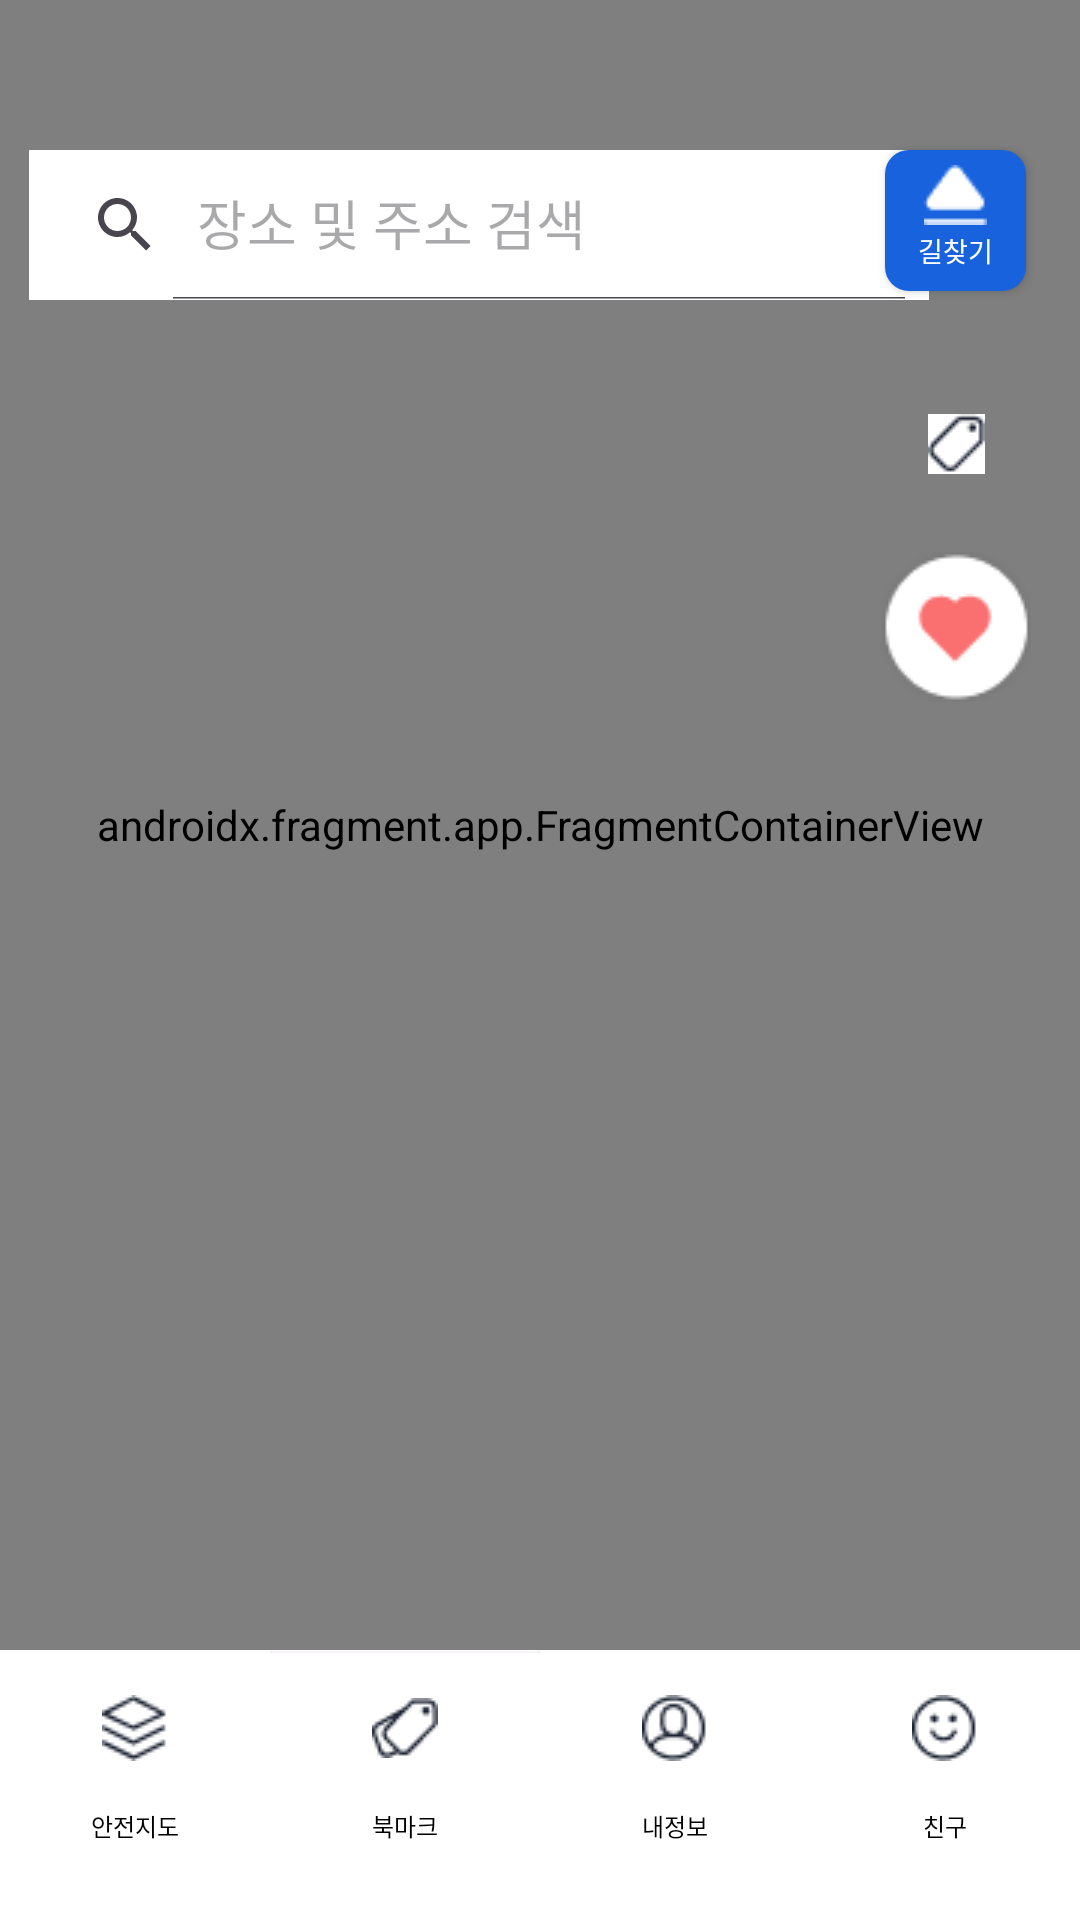

Where icons sit on this 1080px×1920px app screen, as (x1, y1, x2, y2):
book mark mini: (928, 414, 985, 474)
